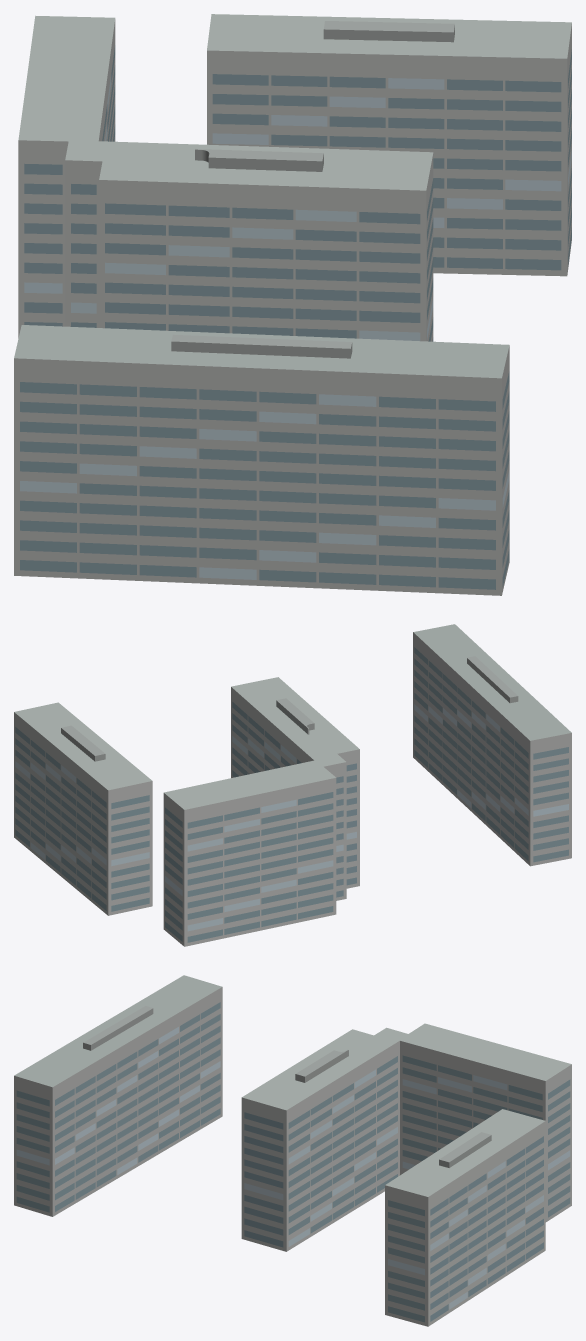
Rendered from apt-a13813004.glb.
3 renders of one model, top to bottom at view 1: azimuth 30°, elevation 25°; view 2: azimuth 150°, elevation 25°; view 3: azimuth 270°, elevation 25°, orthographic. The views are drawn at different scales.
Visible parts, largest first — view 1: apt-a13813004; view 2: apt-a13813004; view 3: apt-a13813004.
Part boxes in pixels (left/top/right/bottom): apt-a13813004: left=14, top=14, right=571, bottom=595; apt-a13813004: left=14, top=624, right=571, bottom=946; apt-a13813004: left=14, top=975, right=571, bottom=1326.
Bounding box in the file's own units: 123 × 38.25 × 131.
